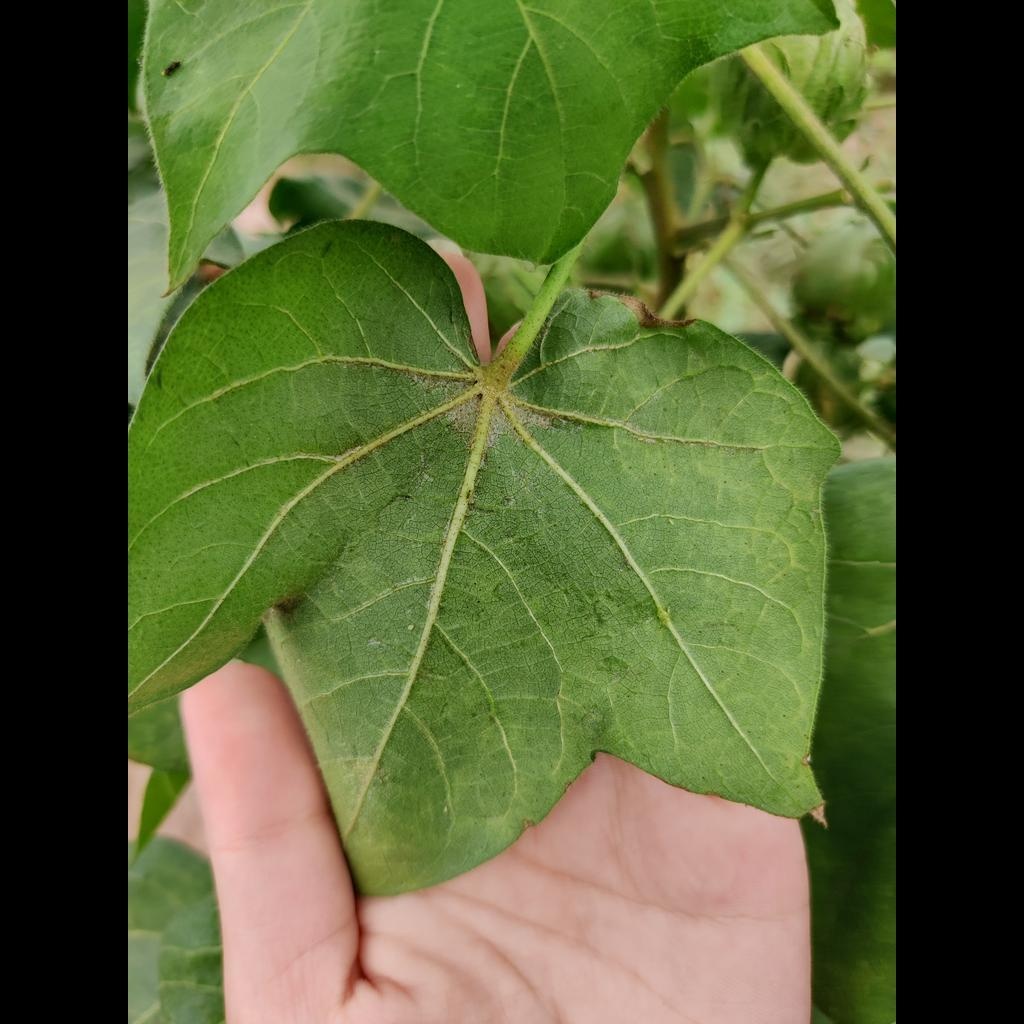nymph: (406, 623, 414, 631), (443, 805, 448, 813), (668, 519, 674, 525)
